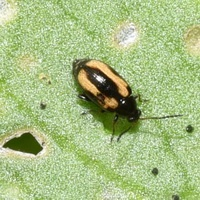insect: (73, 59, 140, 127)
